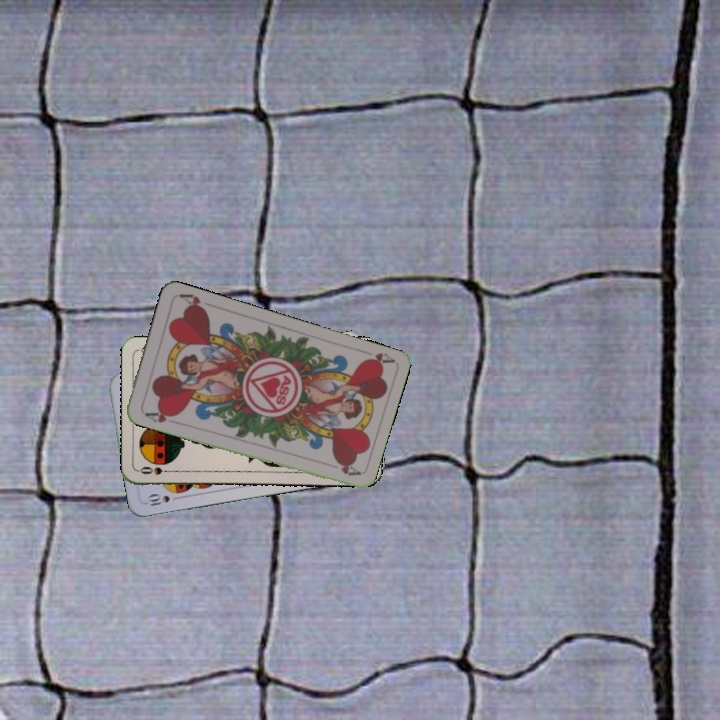HA: (355, 346, 395, 369), (139, 406, 180, 426)
S10: (143, 491, 183, 508)
SO: (136, 463, 176, 477)
